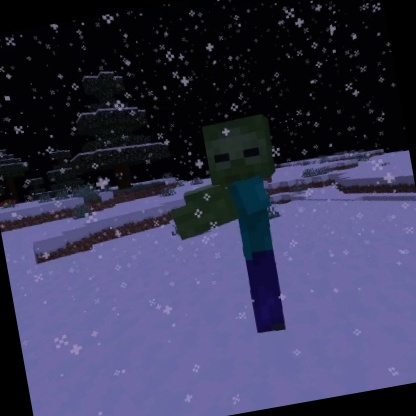zombie: (151, 106, 312, 352)
